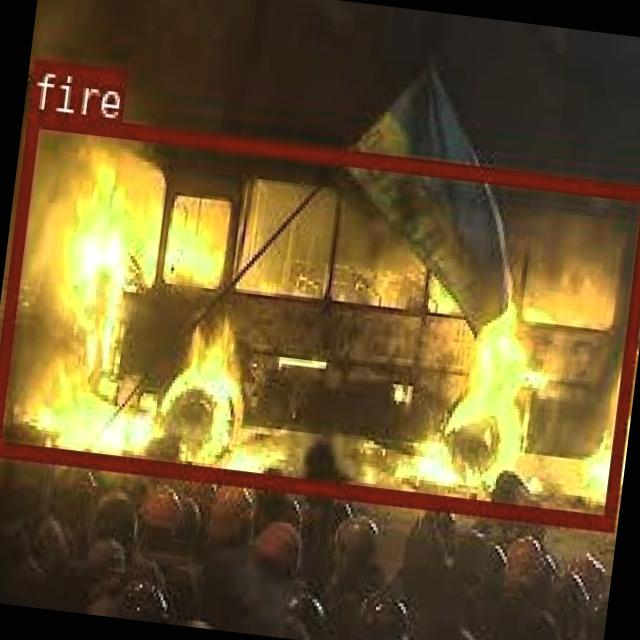fire: (0, 108, 640, 526)
